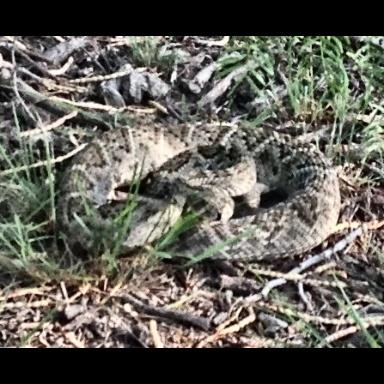snake: (56, 121, 339, 257)
